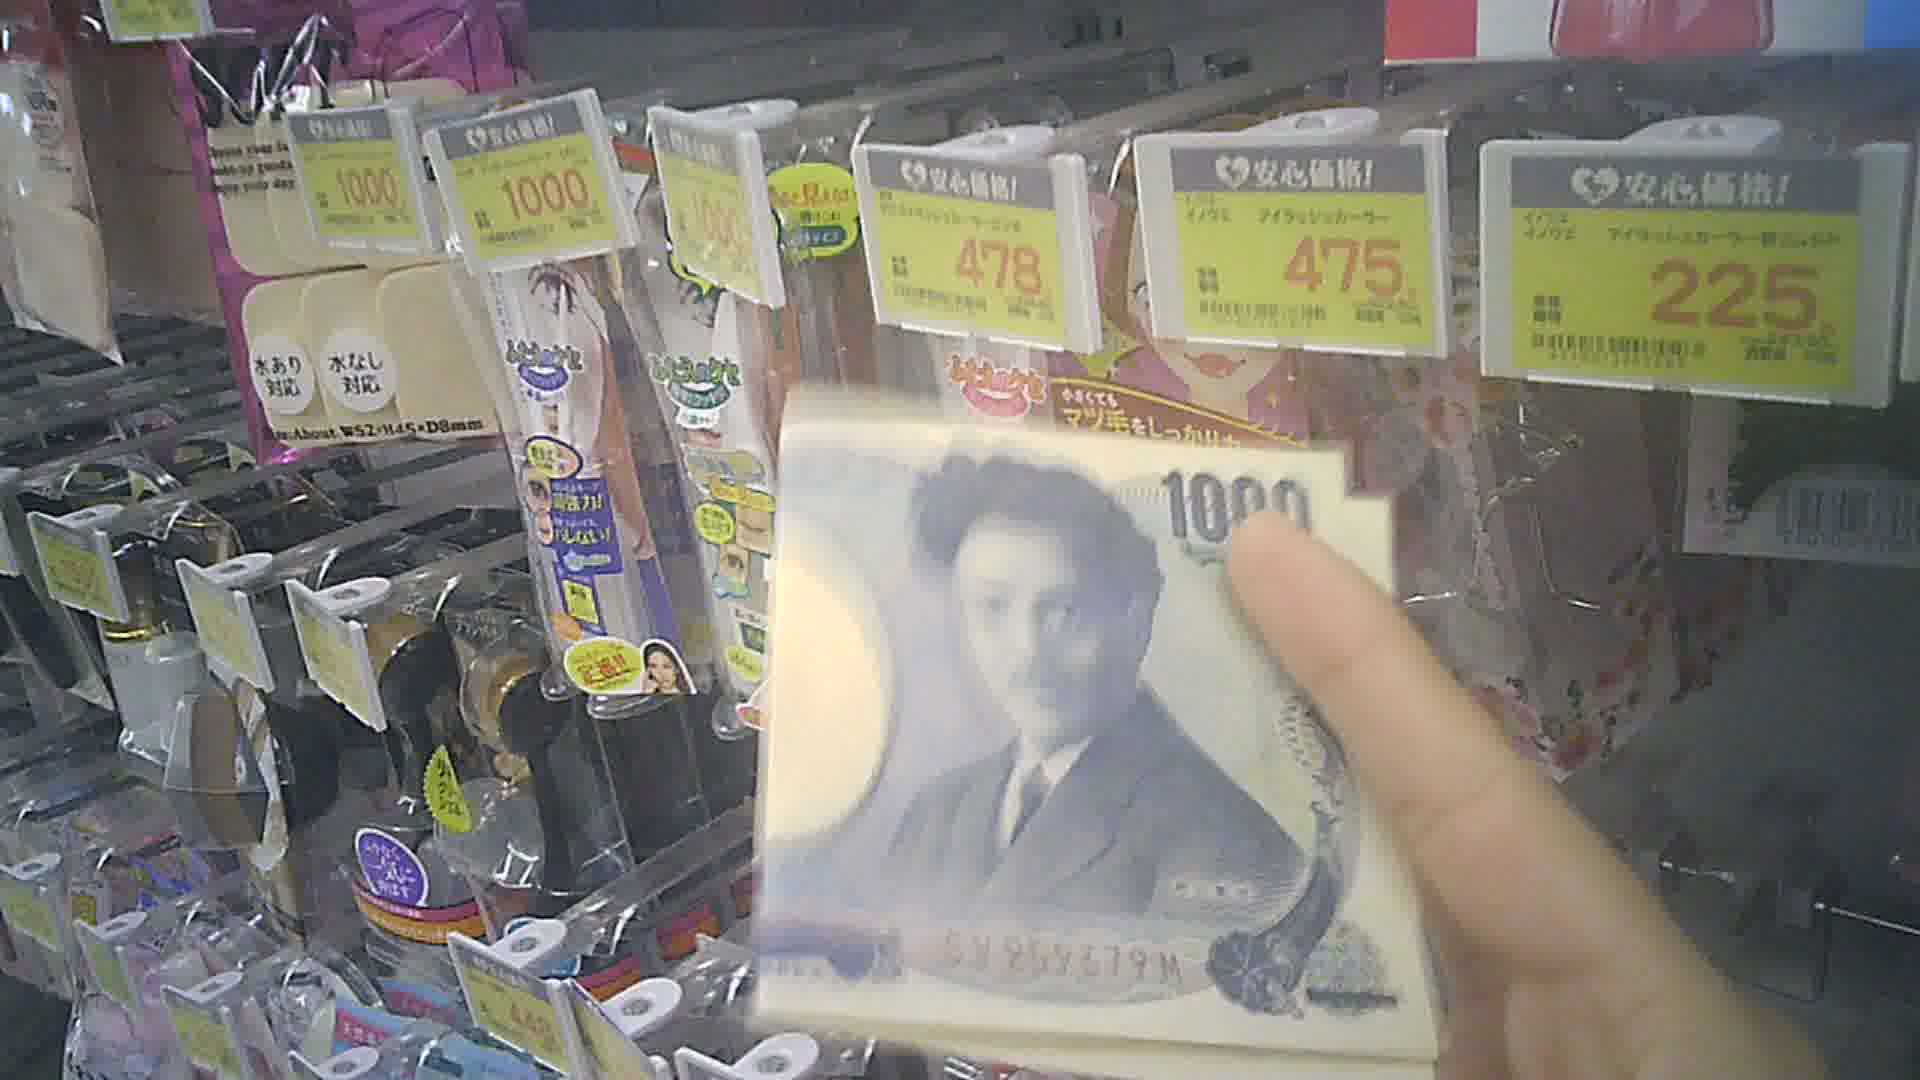1,000 Yen: (764, 378, 1462, 1079)
